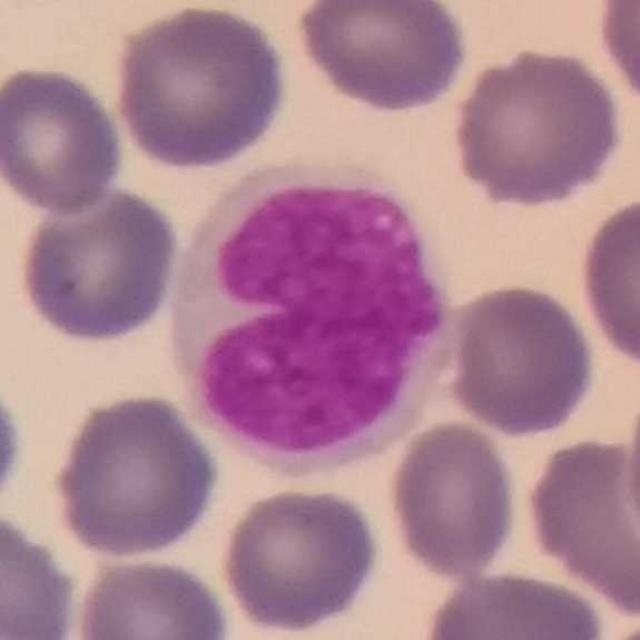Monocyte: (168, 166, 464, 467)
RBC: (109, 1, 293, 173), (446, 42, 627, 210), (48, 390, 224, 561), (12, 182, 183, 346), (216, 483, 384, 636), (444, 279, 599, 440), (383, 416, 521, 581), (521, 431, 640, 620), (290, 0, 472, 116), (0, 60, 128, 218), (70, 553, 234, 640), (417, 567, 608, 640), (574, 191, 640, 373), (0, 507, 83, 638), (591, 0, 640, 111)
